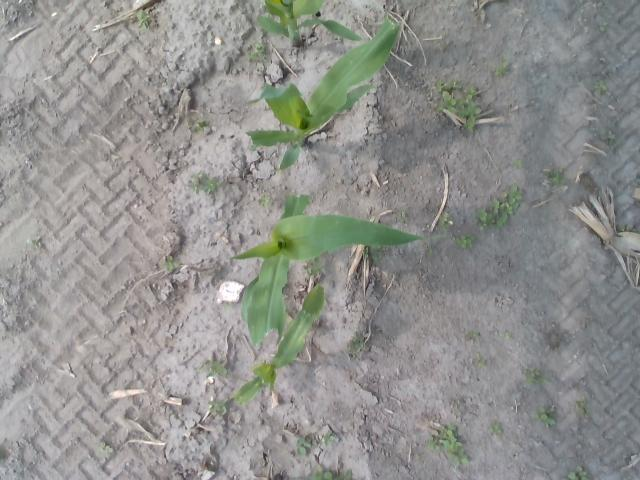Maize: (232, 196, 424, 346), (244, 18, 401, 170), (234, 285, 326, 409), (255, 0, 362, 47)
Weeds: (476, 185, 524, 229), (196, 350, 226, 378), (458, 102, 482, 130), (446, 438, 468, 465), (190, 174, 218, 194), (434, 92, 459, 114), (346, 332, 368, 354), (536, 404, 556, 427), (524, 368, 546, 386), (207, 398, 228, 414), (310, 468, 334, 480), (568, 466, 588, 480), (258, 192, 273, 210), (294, 438, 310, 454), (322, 428, 336, 446), (490, 64, 510, 76), (437, 81, 463, 90), (440, 425, 456, 439), (302, 263, 318, 277), (456, 235, 476, 246), (161, 254, 176, 268), (138, 10, 149, 29), (548, 168, 562, 182), (574, 400, 586, 416), (245, 48, 258, 61), (364, 247, 378, 259), (28, 236, 42, 248), (192, 120, 206, 132), (98, 444, 113, 455), (464, 332, 480, 342), (489, 422, 502, 434), (476, 352, 487, 366), (438, 214, 450, 226), (508, 158, 522, 168), (428, 437, 438, 450), (314, 258, 325, 268), (467, 88, 477, 99), (256, 40, 266, 51), (602, 130, 612, 140), (596, 80, 606, 89), (504, 331, 513, 338), (426, 245, 433, 252), (452, 403, 460, 409), (399, 212, 405, 218)
